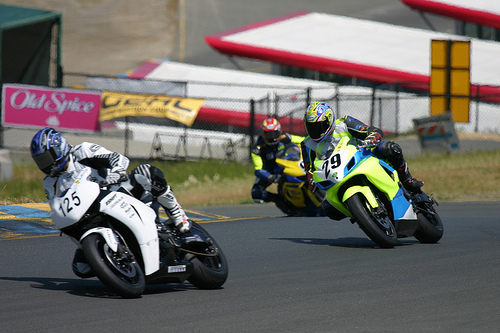helmet: (21, 129, 73, 166), (305, 102, 334, 134), (258, 113, 287, 145)
